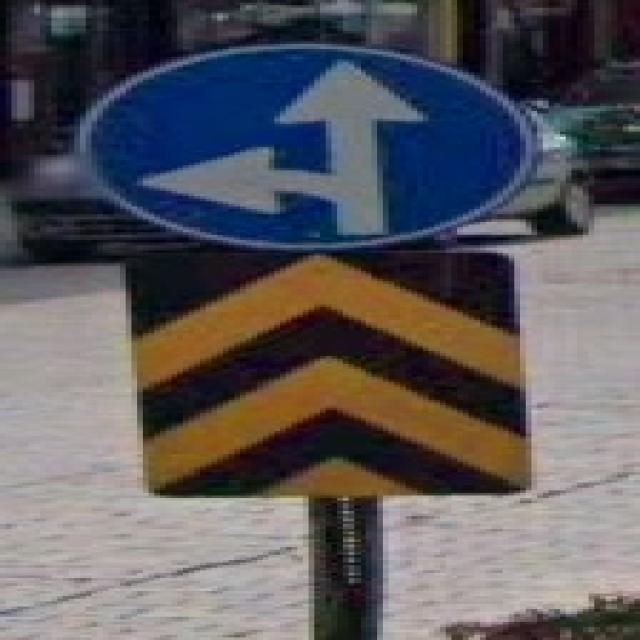Straight or Left: (81, 46, 538, 248)
